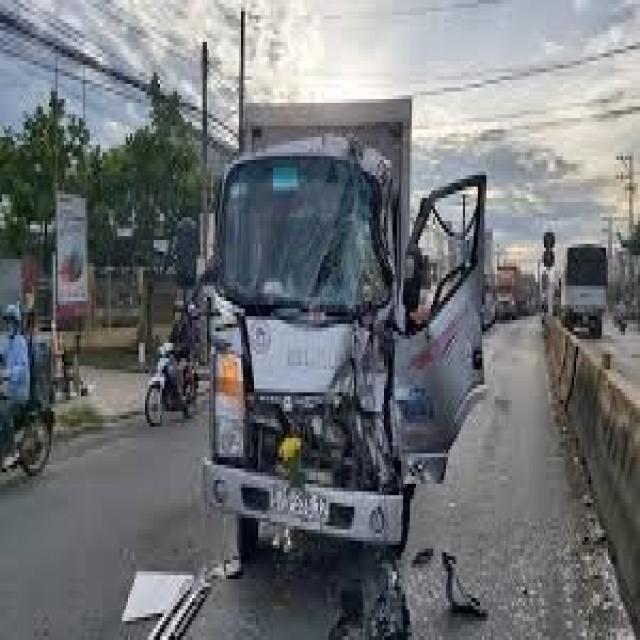accident: (183, 106, 497, 640)
